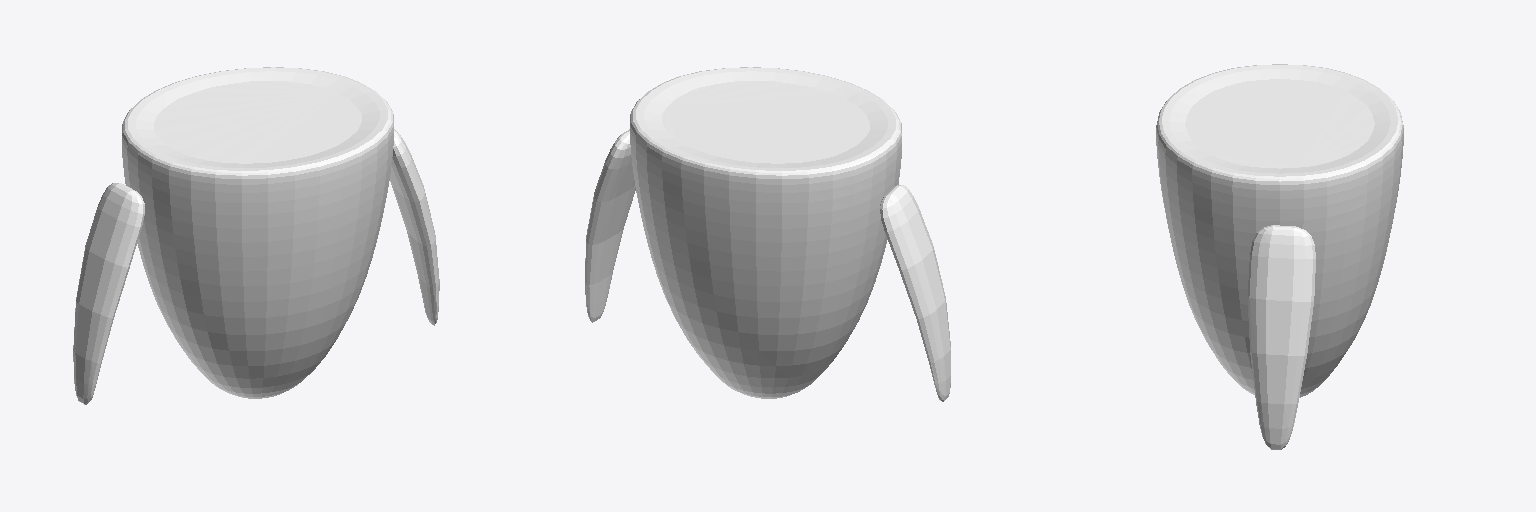
The picture shows the model from 3 angles: view 1: azimuth 30°, elevation 25°; view 2: azimuth 150°, elevation 25°; view 3: azimuth 270°, elevation 25°; orthographic projection.
Parts seen in each view (by area): view 1: eva_Lp_Cylinder.002; view 2: eva_Lp_Cylinder.002; view 3: eva_Lp_Cylinder.002.
Part boxes in pixels (left/top/right/bottom): eva_Lp_Cylinder.002: left=73, top=67, right=439, bottom=404; eva_Lp_Cylinder.002: left=585, top=67, right=950, bottom=401; eva_Lp_Cylinder.002: left=1156, top=64, right=1403, bottom=449.
Size of the model in its own units: 1.12 by 0.8127 by 0.6705.
Materials: 1 (1 with a texture image).